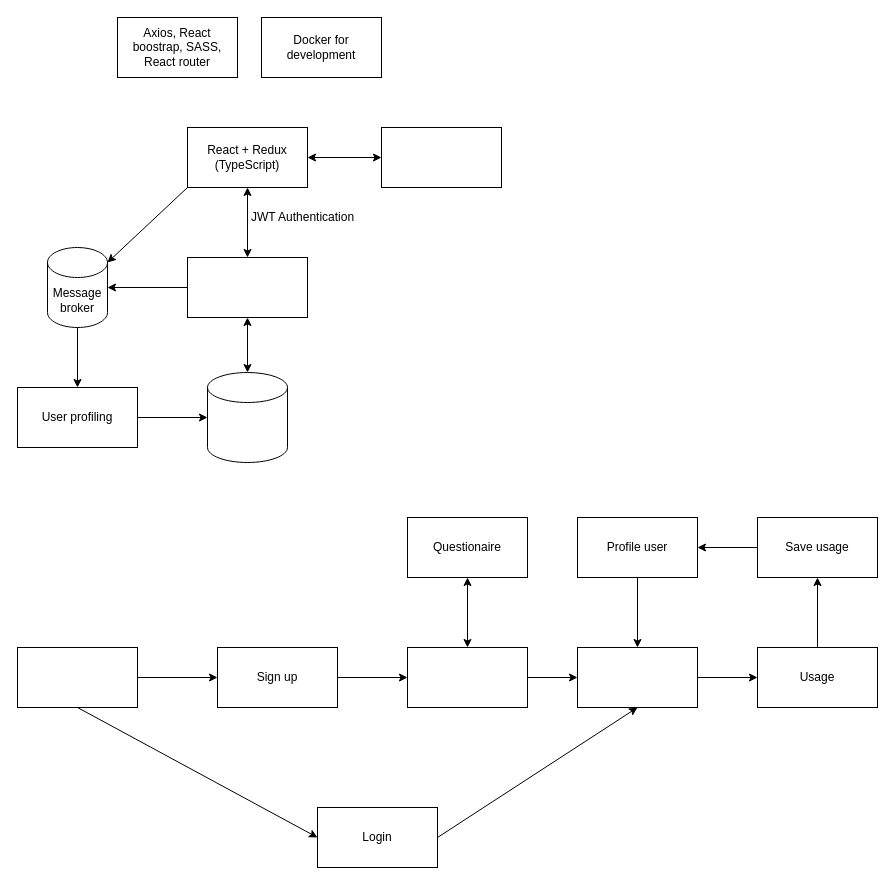
This 895x885 diagram has some shape labels left out. The shapes that lost their labels are listed below. From the top down, each one's centre as x and y in pixels, then its label:
At [441,157]: "User profile settings saved in LocalStorage".
At [247,287]: "ASP.NET Core Web API (C#)".
At [247,417]: "PostgreSQL".
At [77,677]: "Login page".
At [467,677]: "Initial profiling".
At [637,677]: "PoC UI".
